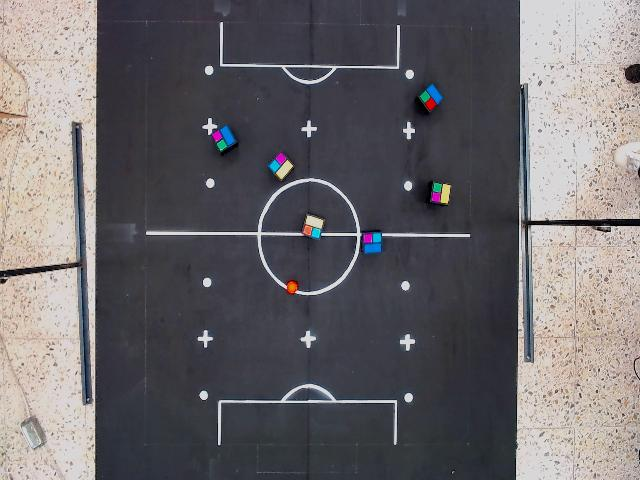robot: (265, 150, 297, 183), (416, 82, 445, 114), (210, 123, 239, 155), (299, 212, 326, 241), (429, 180, 454, 208), (361, 231, 384, 256)
